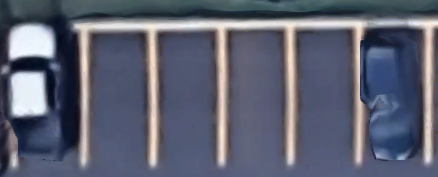Occupied: (13, 27, 85, 165), (358, 27, 429, 164)
Vacant: (153, 27, 222, 165), (85, 27, 153, 165), (222, 28, 291, 164), (291, 27, 359, 164)
